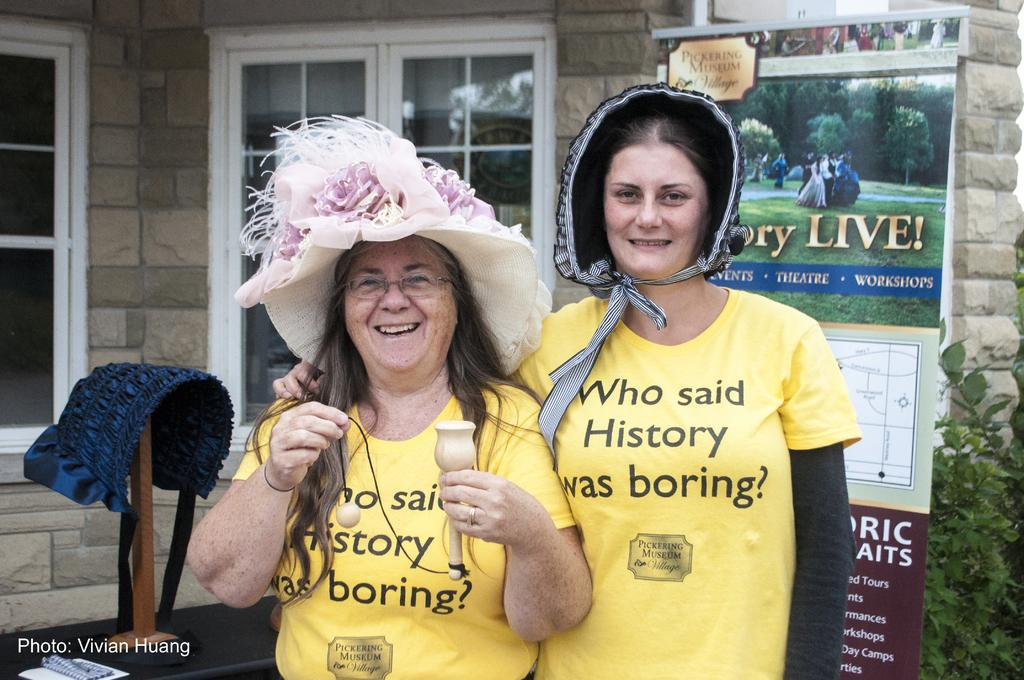Hat: (232, 114, 546, 370)
